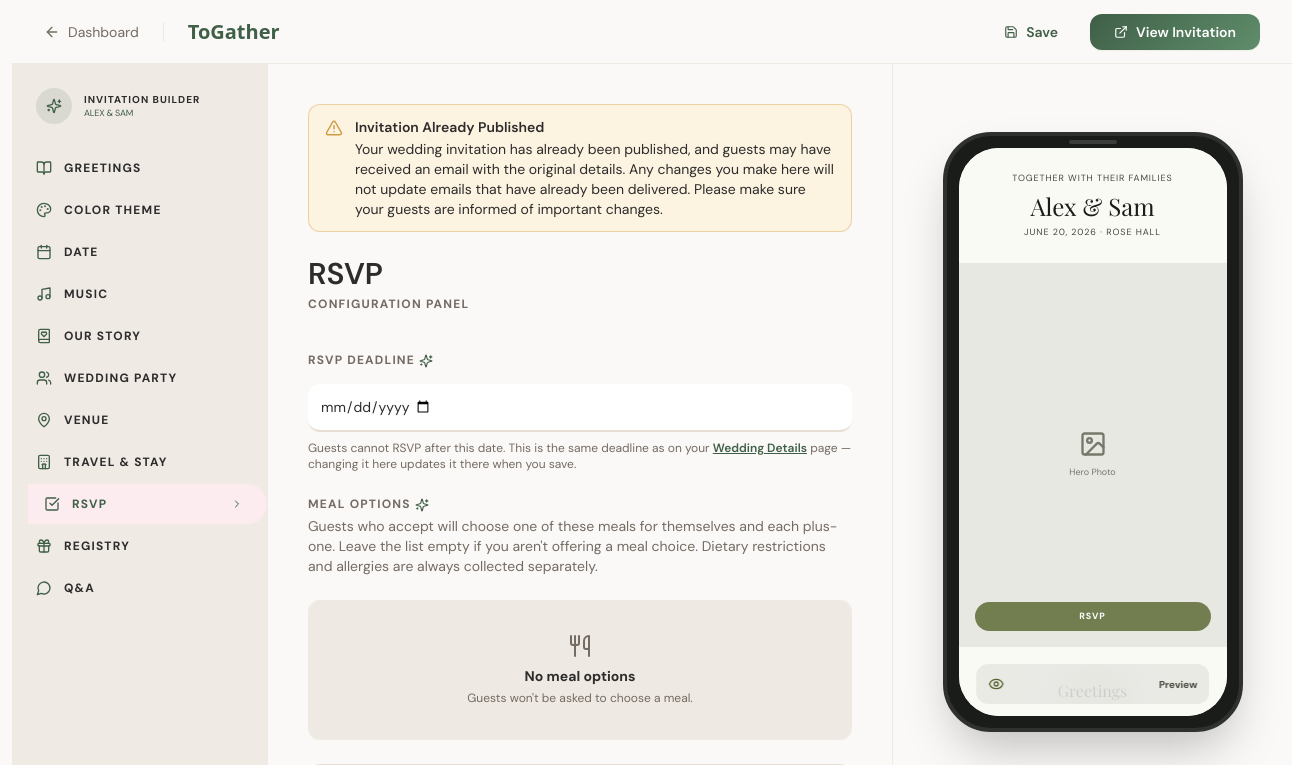
Scenario: RSVP tab — deadline › an invitation that never had a deadline still saves
This screenshot has width=1292, height=765.
Click the button "Save" at (1031, 32), box [984,14,1078,50]
(page scrolled)
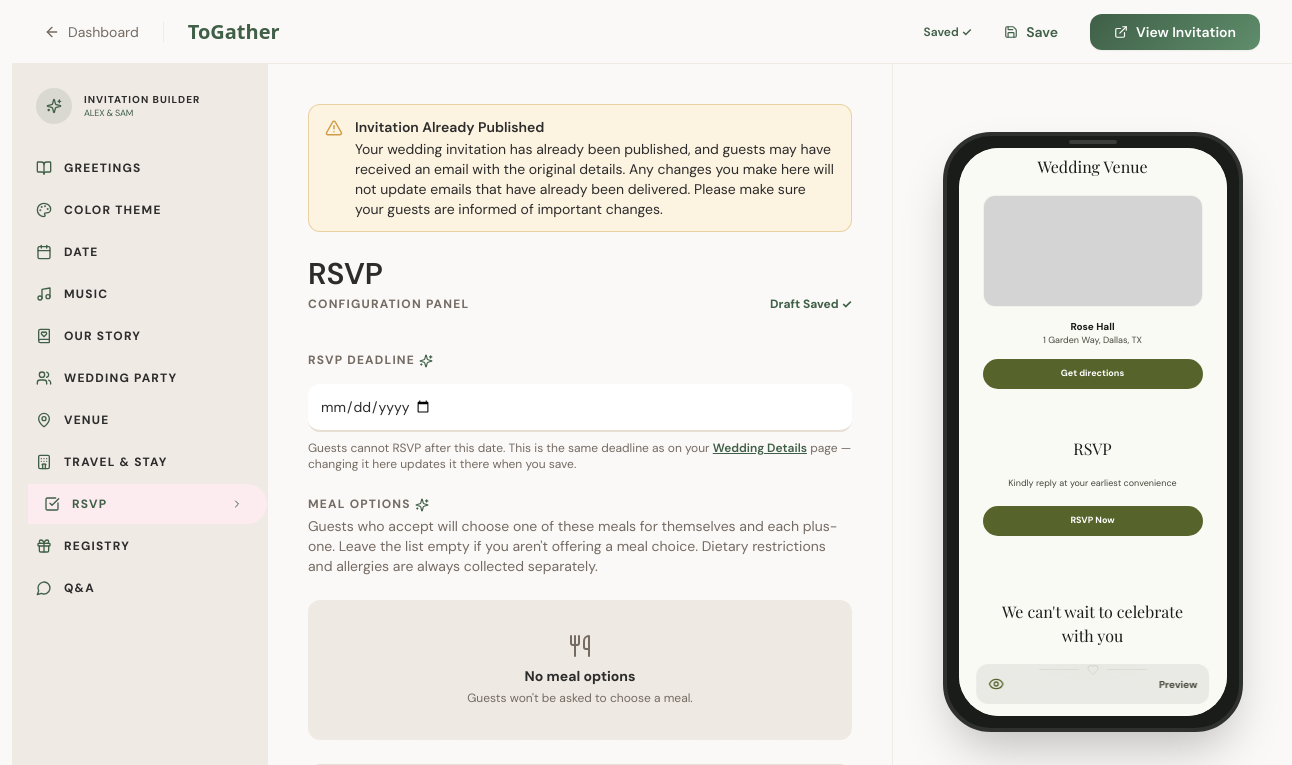
Now the element showing "RSVP Kindly reply at your earliest convenience RSVP Now" is shown, box [958,412,1226,560]
